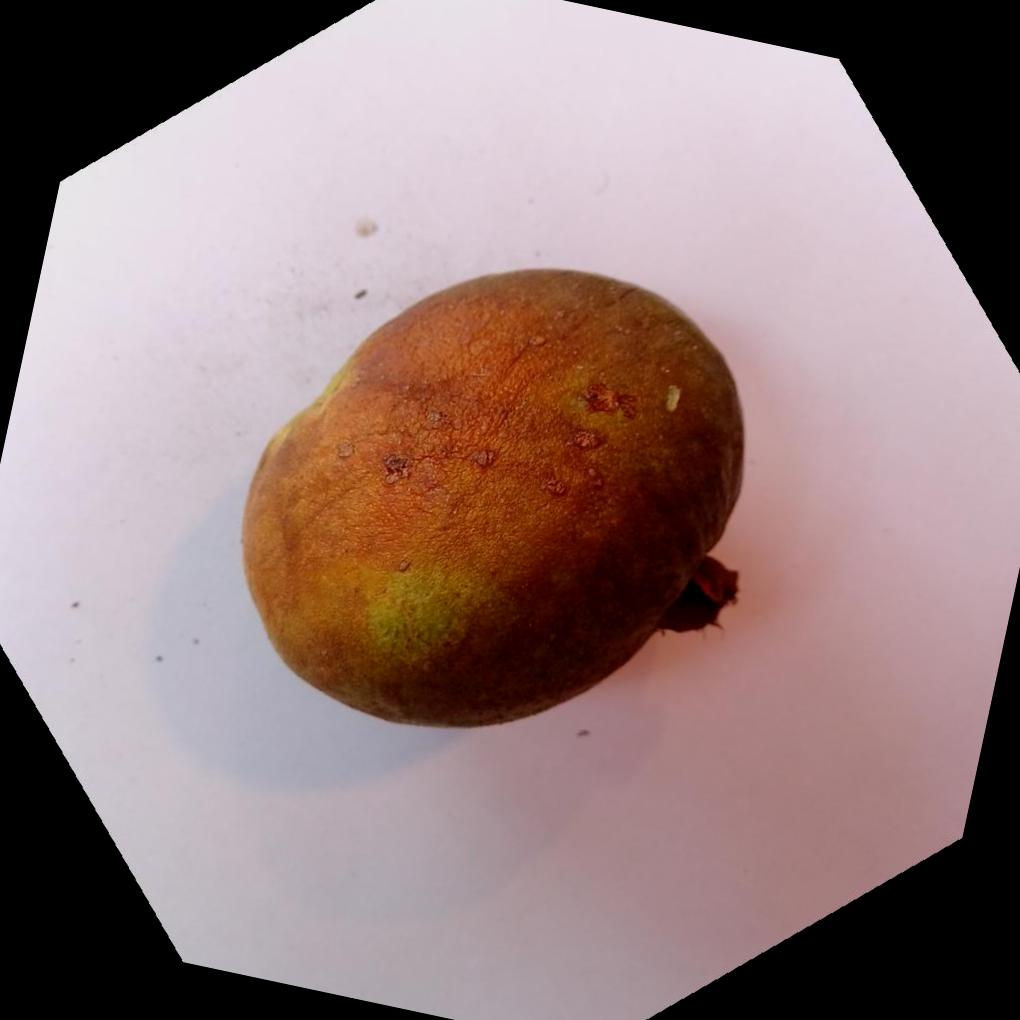FreshOrange: (235, 265, 742, 729)
